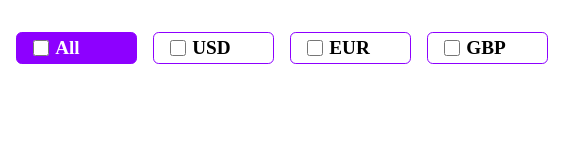
Test: CurrencySelection › should select all item by All click
This screenshot has width=565, height=160.
Click the text "All". click: (76, 48)
box: left=16, top=32, right=137, bottom=64
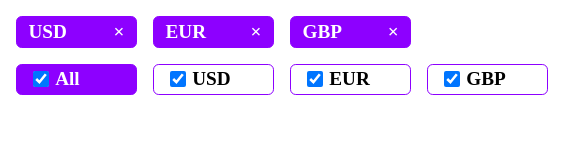
Check: the number of elements with class "CurrencySelection_selectedItem" is 3, box left=16, top=16, right=137, bottom=48; left=153, top=16, right=274, bottom=48; left=290, top=16, right=411, bottom=48
